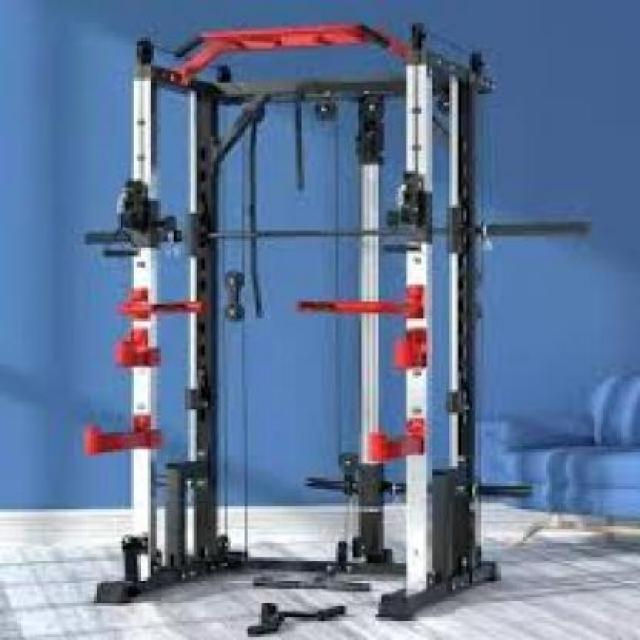smith machine: (83, 20, 535, 623)
